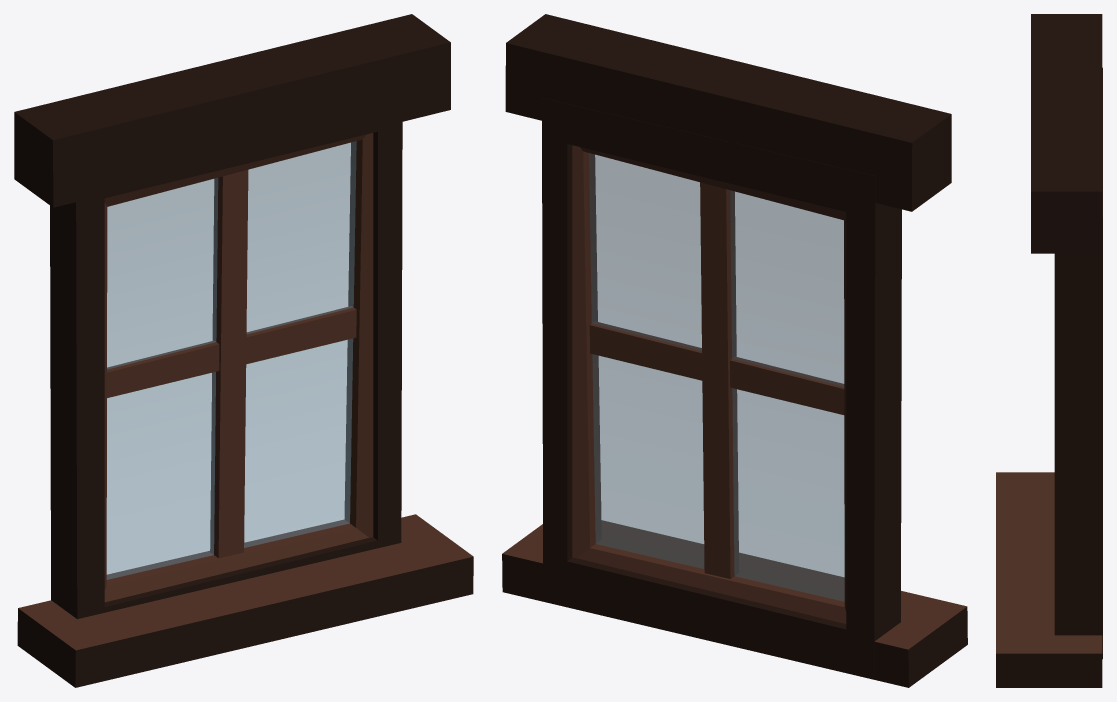
File: Window 2x2 V2 Closed.glb
3 renders of one model, left to right at view 1: azimuth 30°, elevation 25°; view 2: azimuth 150°, elevation 25°; view 3: azimuth 270°, elevation 25°, orthographic. The views are drawn at different scales.
Parts seen in each view (by area): view 1: Window 2x2 V2 Closed; view 2: Window 2x2 V2 Closed; view 3: Window 2x2 V2 Closed.
Boxes of the visible parts, bbox=[...] form: Window 2x2 V2 Closed: bbox=[14, 14, 473, 687]; Window 2x2 V2 Closed: bbox=[502, 14, 967, 687]; Window 2x2 V2 Closed: bbox=[996, 14, 1102, 687].
Bounding box in the file's own units: 1.42 × 1.82 × 0.3549.
2 materials, 2 textured.
